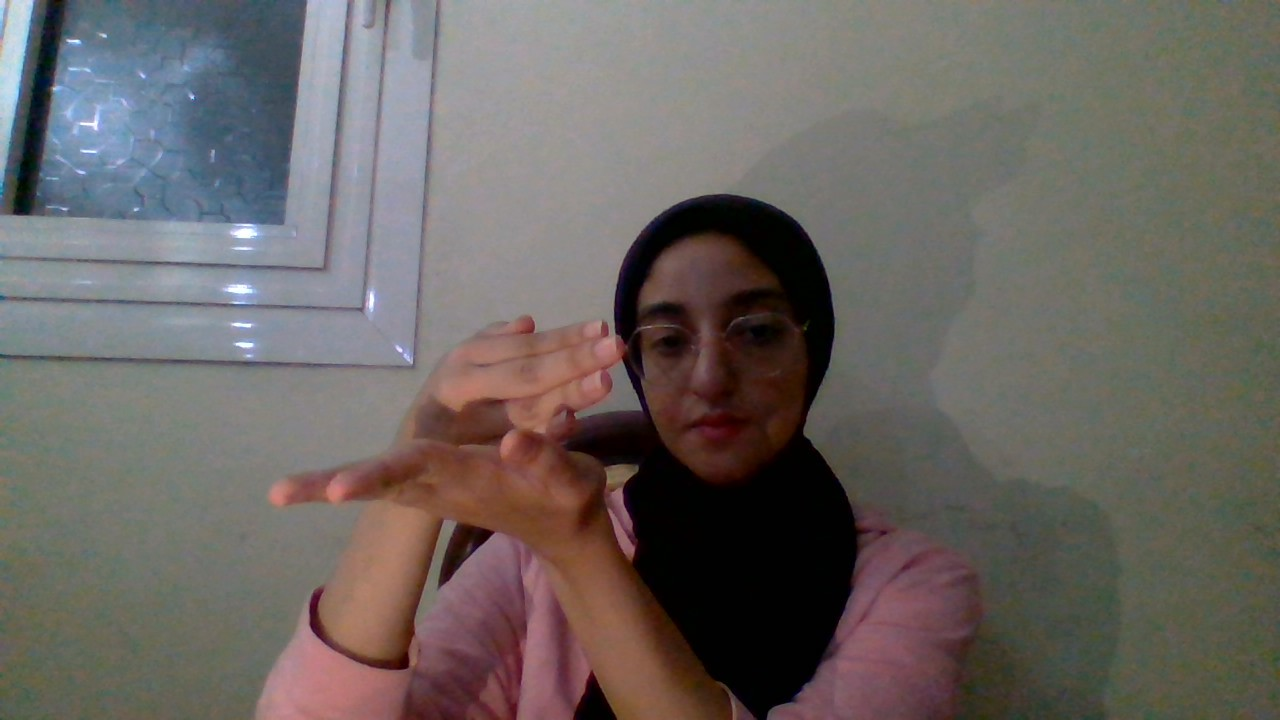stop: (193, 281, 725, 591)
